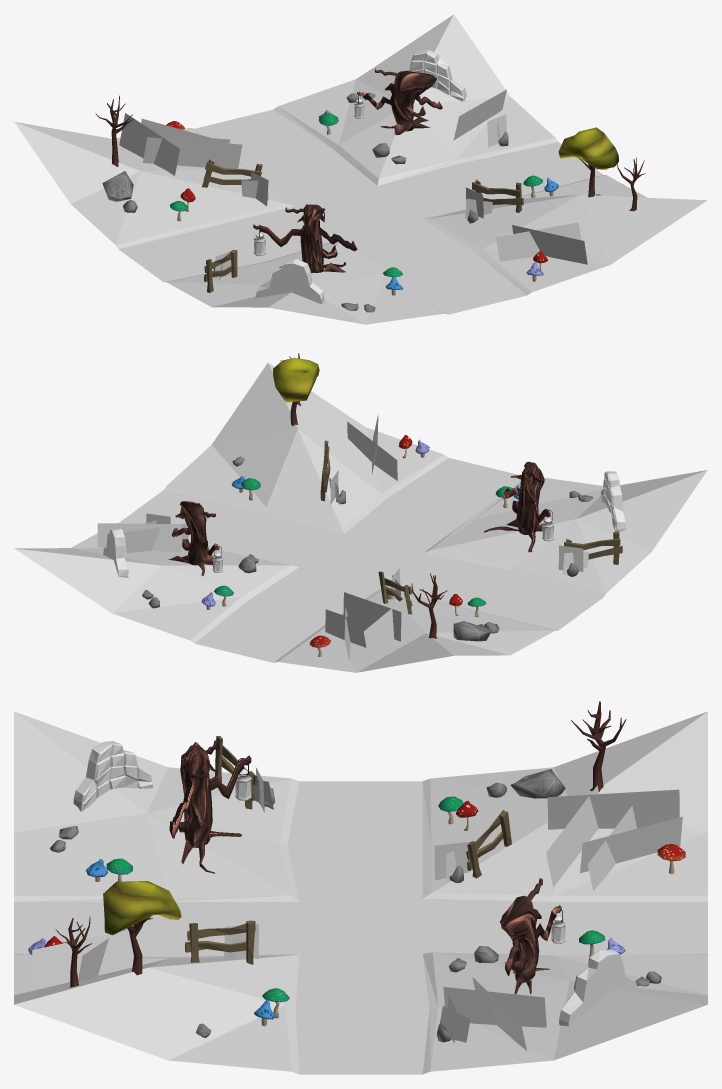
The model's file is environment4.fbx.
3 renders of one model, top to bottom at view 1: azimuth 30°, elevation 25°; view 2: azimuth 150°, elevation 25°; view 3: azimuth 270°, elevation 25°, orthographic. The views are drawn at different scales.
Parts seen in each view (by area): view 1: Plane.027, Cylinder.031, Cylinder.030, Plane.140, Cube.021, Sphere.005, Plane.139, Plane.150, Plane.149, Cube.018, Plane.157, LowPolyFence_02.004 (+5 smaller); view 2: Plane.027, Cylinder.030, Cylinder.031, Sphere.005, Plane.139, Plane.157, Plane.140, Plane.150, Cube.021, Plane.138, Cube.018, Plane.158 (+4 smaller); view 3: Plane.027, Cylinder.030, Plane.139, Cylinder.031, Plane.149, Cube.021, Sphere.005, Cube.018, Plane.158, Plane.137, Plane.140, LowPolyFence_02.006 (+10 smaller).
Part boxes in pixels (x1,y1,x2,y2): Plane.027: [14, 14, 707, 324]; Cylinder.031: [357, 68, 442, 135]; Cylinder.030: [253, 204, 357, 272]; Plane.140: [142, 137, 242, 168]; Cube.021: [255, 259, 324, 303]; Sphere.005: [558, 127, 618, 169]; Plane.139: [119, 113, 179, 175]; Plane.150: [496, 222, 581, 261]; Plane.149: [512, 225, 587, 264]; Cube.018: [408, 50, 466, 101]; Plane.157: [453, 89, 506, 140]; LowPolyFence_02.004: [202, 159, 262, 187]; Plane.027: [14, 363, 707, 672]; Cylinder.030: [484, 461, 550, 552]; Cylinder.031: [168, 501, 219, 575]; Sphere.005: [273, 357, 319, 402]; Plane.139: [363, 597, 409, 663]; Plane.157: [97, 523, 181, 552]; Plane.140: [343, 592, 401, 641]; Plane.150: [347, 422, 397, 480]; Cube.021: [601, 471, 626, 532]; Plane.138: [325, 609, 370, 647]; Cube.018: [103, 528, 128, 577]; Plane.158: [123, 523, 188, 553]; Plane.027: [14, 711, 707, 1074]; Cylinder.030: [169, 740, 251, 873]; Plane.139: [547, 789, 679, 829]; Cylinder.031: [500, 878, 561, 994]; Plane.149: [32, 930, 133, 987]; Cube.021: [73, 741, 152, 811]; Sphere.005: [103, 881, 181, 934]; Cube.018: [559, 949, 638, 1026]; Plane.158: [443, 987, 546, 1027]; Plane.137: [580, 816, 682, 873]; Plane.140: [546, 785, 598, 887]; LowPolyFence_02.006: [185, 920, 255, 964].
Bounding box in the file's own units: 2250 × 532 × 2250.
